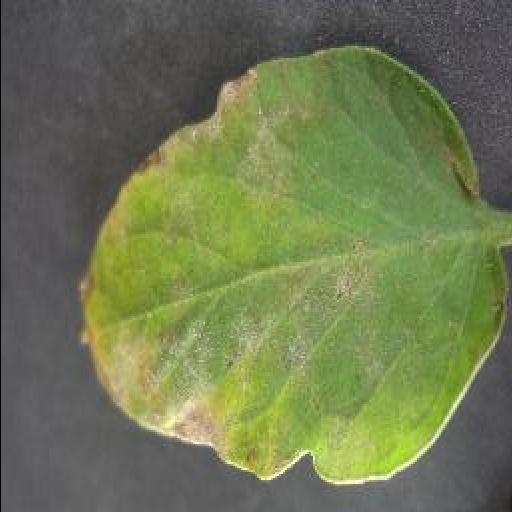disease_tomato: (73, 43, 507, 489)
